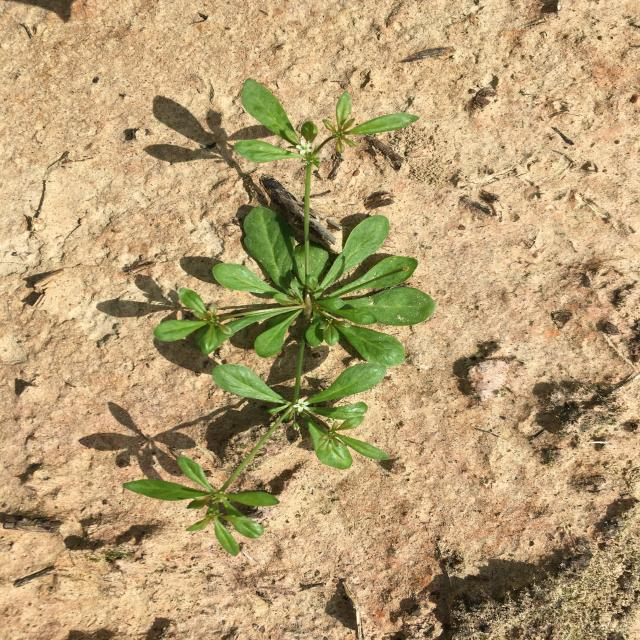Carpetweed: (122, 77, 437, 557)
